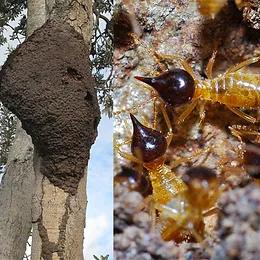nasutitermes corniger: (96, 105, 227, 250), (109, 40, 260, 135)
